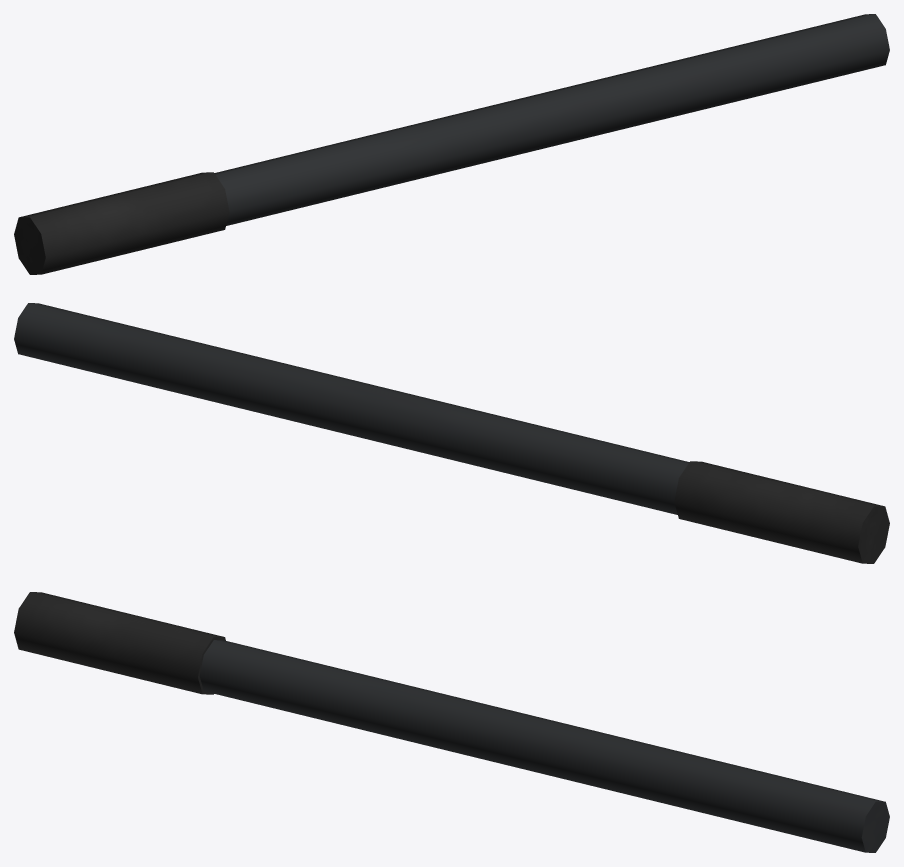
File: baton.fbx
The picture shows the model from 3 angles, top to bottom: view 1: azimuth 30°, elevation 25°; view 2: azimuth 150°, elevation 25°; view 3: azimuth 330°, elevation 25°; orthographic projection.
Visible parts, largest first — view 1: baton; view 2: baton; view 3: baton.
Part boxes in pixels (left/top/right/bottom): baton: left=14, top=14, right=889, bottom=274; baton: left=14, top=303, right=889, bottom=563; baton: left=14, top=592, right=889, bottom=852.
Size of the model in its own units: 0.552 by 0.036 by 0.036.
1 material, 1 textured.
